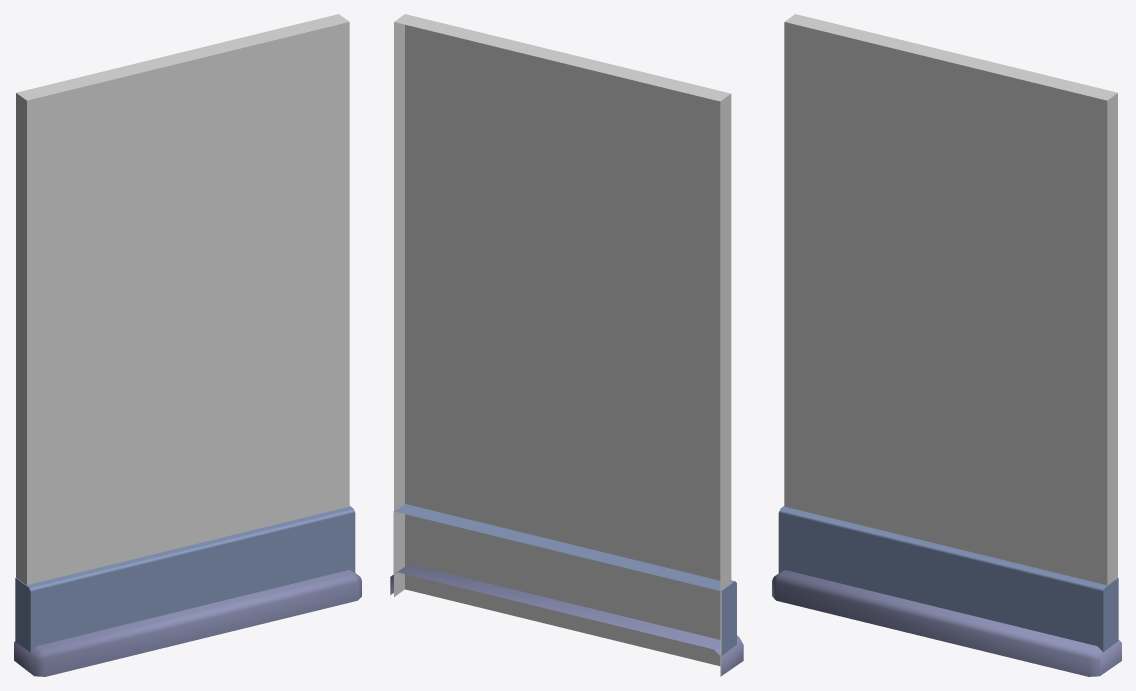
File: Wall.fbx
3 views of the same model, side by side, from view 1: azimuth 30°, elevation 25°; view 2: azimuth 150°, elevation 25°; view 3: azimuth 330°, elevation 25° (orthographic).
Visible parts, largest first — view 1: Wall; view 2: Wall; view 3: Wall.
Part boxes in pixels (box(x1,y1,x2,y2)): Wall: box(14, 14, 361, 676); Wall: box(390, 14, 743, 676); Wall: box(772, 14, 1121, 676).
Size of the model in its own units: 10.18 by 16.85 by 1.32.
